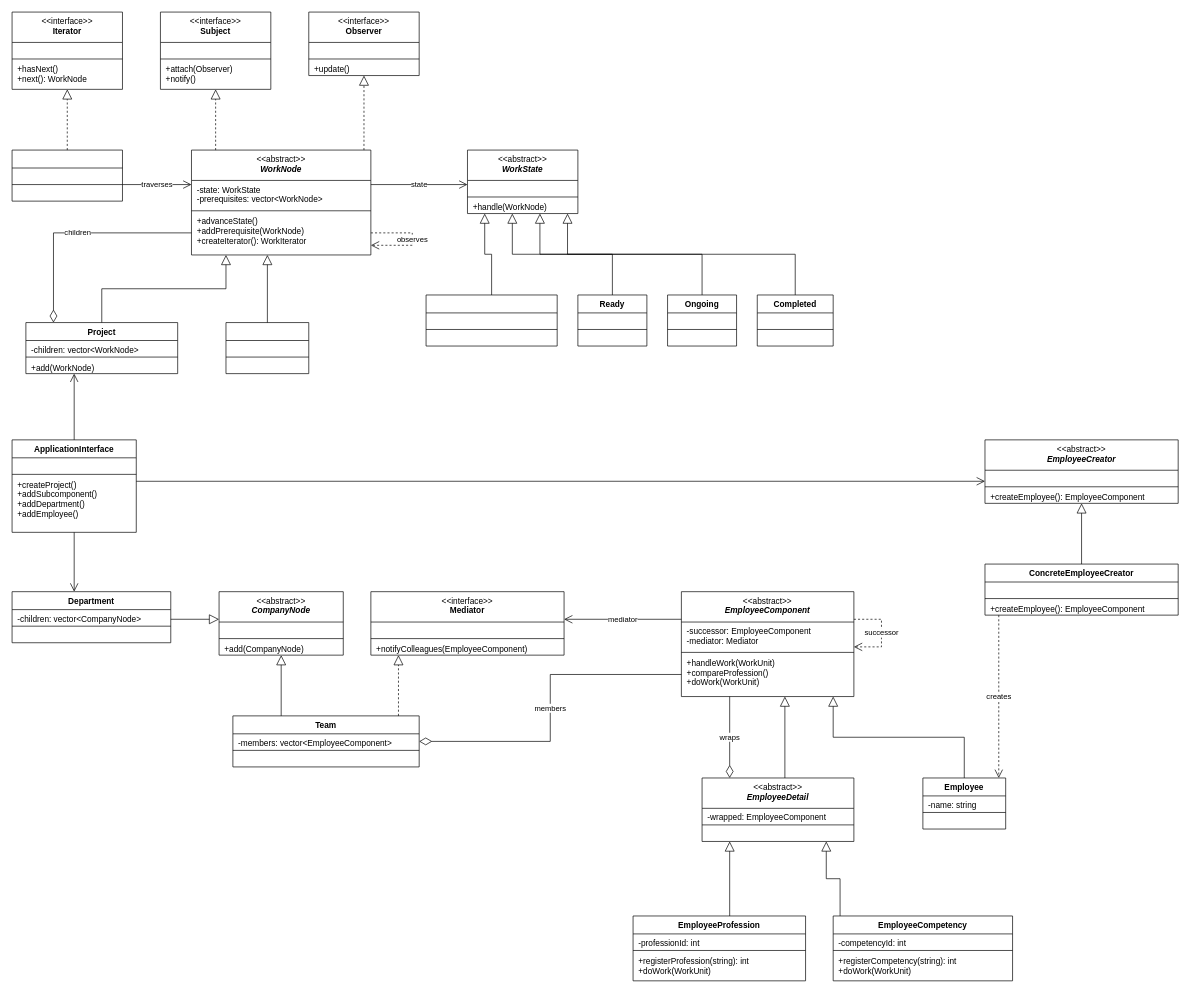
Some shapes in this 1190 by 996 pixel diagram are drawn without their labels. Here are the shapes that lost their labels. From the top down, the centre of each, then its label:
At (66,175): "WorkIterator".
At (491,320): "WaitingForPrerequisites".
At (267,348): "WorkUnit".
